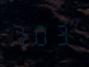one: (18, 20, 34, 47)
three: (53, 19, 69, 46)
zero: (36, 20, 52, 46)
